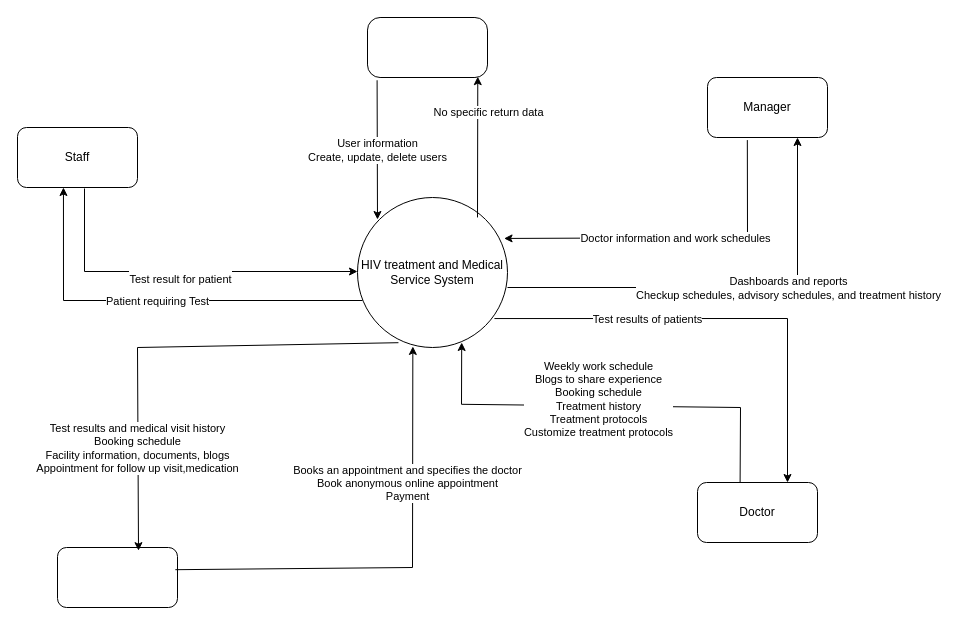
The diagram is 958 pixels wide and 625 high, and some of its shapes have lost their labels. Here are the shapes that lost their labels. From the top down, the centre of each, then its label:
pixel 427 47: Admin
pixel 117 577: Patient
